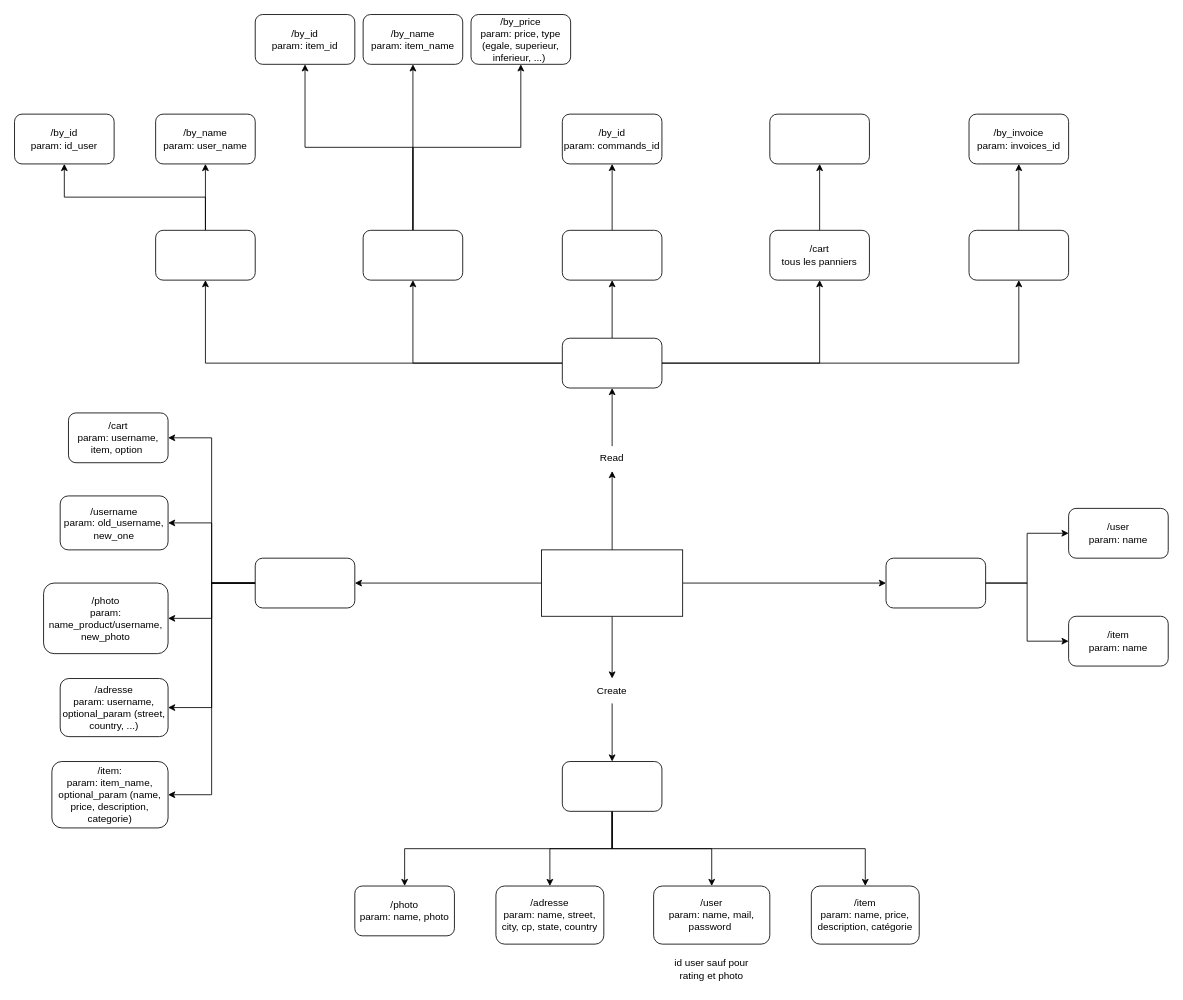
Some shapes in this 1183 by 1000 pixel diagram are drawn without their labels. Here are the shapes that lost their labels. From the top down, the box of each, then its label:
(769, 113, 869, 164): /by_id param: cart_id
(155, 229, 255, 280): /user tous les users
(362, 229, 463, 280): /item tous les items
(561, 229, 662, 280): /commands toutes les commandes
(968, 229, 1069, 280): /invoice toutes les factures
(561, 337, 662, 388): /select
(254, 557, 355, 608): /update
(541, 549, 683, 616): API
(885, 557, 986, 608): /delete
(561, 761, 662, 811): /insert
